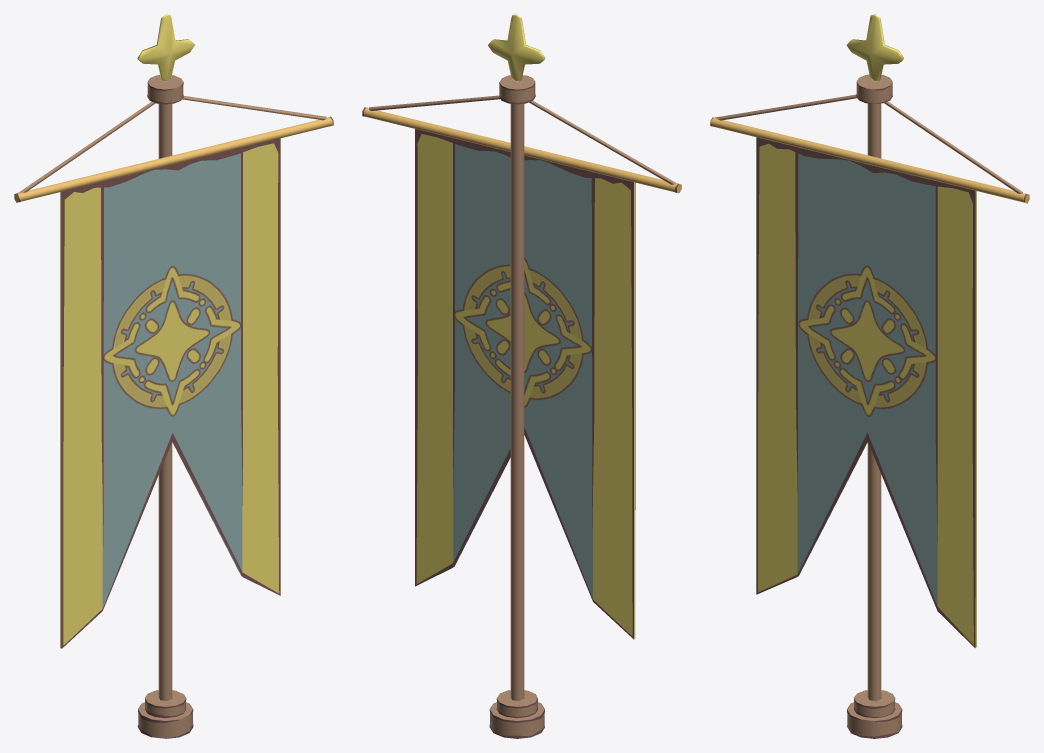
File: Mesh_Home_B_Idyll_21_SM.fbx
3 renders of one model, left to right at view 1: azimuth 30°, elevation 25°; view 2: azimuth 150°, elevation 25°; view 3: azimuth 330°, elevation 25°, orthographic.
Visible parts, largest first — view 1: Mesh_Home_B_Idyll_21; view 2: Mesh_Home_B_Idyll_21; view 3: Mesh_Home_B_Idyll_21.
Boxes of the visible parts, left/top/right/bottom form: Mesh_Home_B_Idyll_21: left=14, top=14, right=333, bottom=738; Mesh_Home_B_Idyll_21: left=362, top=14, right=681, bottom=738; Mesh_Home_B_Idyll_21: left=710, top=14, right=1029, bottom=738.
Bounding box in the file's own units: 92.15 × 199 × 14.07.
Materials: 1 (1 with a texture image).
